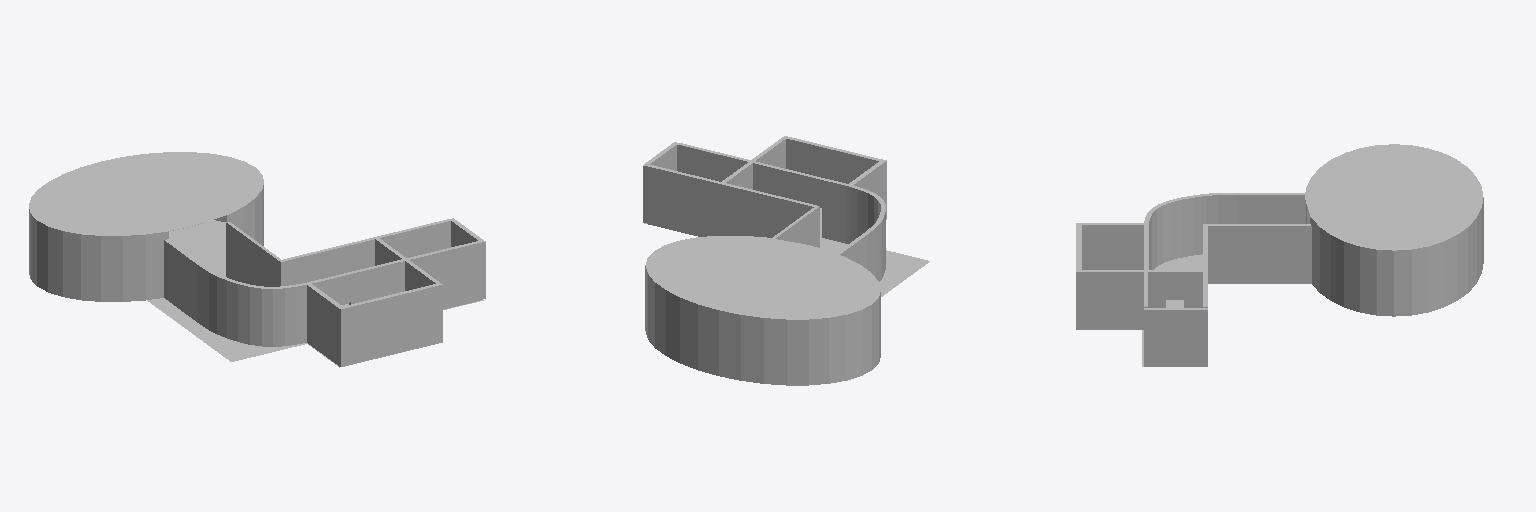
The model's file is First Room-col.obj.
3 views of the same model, side by side, from view 1: azimuth 30°, elevation 25°; view 2: azimuth 150°, elevation 25°; view 3: azimuth 270°, elevation 25° (orthographic).
Parts seen in each view (by area): view 1: Cylinder.001, Cube, Cube.004, Cube.002, Cube.005, Plane.007, Cube.001, Cube.003; view 2: Cylinder.001, Cube, Cube.004, Cube.001, Cube.005, Cube.002, Plane.007, Cube.003; view 3: Cylinder.001, Cube, Cube.004, Cube.003.
Part boxes in pixels (left/top/right/bottom): Cylinder.001: left=29, top=152, right=263, bottom=301; Cube: left=164, top=237, right=442, bottom=366; Cube.004: left=226, top=222, right=374, bottom=304; Cube.002: left=407, top=241, right=480, bottom=309; Cube.005: left=310, top=259, right=404, bottom=304; Plane.007: left=147, top=298, right=307, bottom=361; Cube.001: left=377, top=219, right=450, bottom=257; Cube.003: left=450, top=218, right=485, bottom=299; Cylinder.001: left=645, top=236, right=880, bottom=385; Cube: left=719, top=136, right=886, bottom=281; Cube.004: left=723, top=183, right=819, bottom=247; Cube.001: left=647, top=165, right=720, bottom=236; Cube.005: left=753, top=161, right=847, bottom=243; Cube.002: left=677, top=143, right=750, bottom=181; Plane.007: left=836, top=244, right=929, bottom=296; Cube.003: left=643, top=142, right=677, bottom=222; Cylinder.001: left=1305, top=144, right=1483, bottom=316; Cube: left=1076, top=193, right=1307, bottom=329; Cube.004: left=1203, top=224, right=1311, bottom=283; Cube.003: left=1144, top=308, right=1207, bottom=366.
Size of the model in its own units: 25.01 by 4.88 by 27.29.